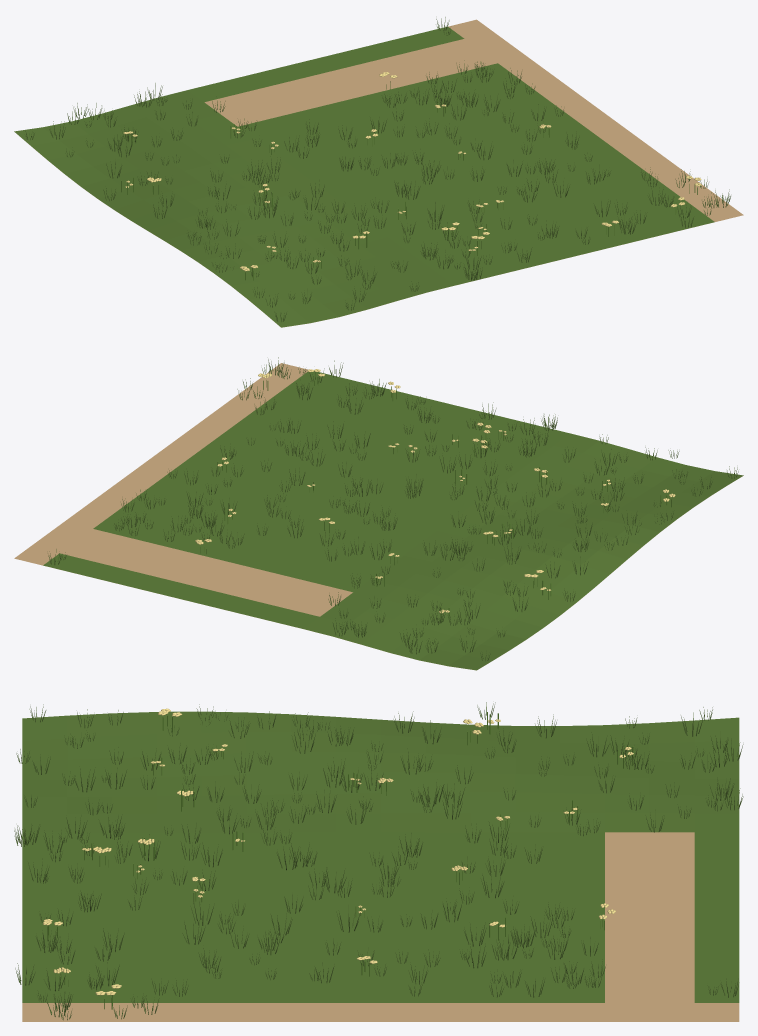
File: terrain-0-1.glb
3 views of the same model, one above another, from view 1: azimuth 30°, elevation 25°; view 2: azimuth 150°, elevation 25°; view 3: azimuth 270°, elevation 25° (orthographic). The views are drawn at different scales.
Parts seen in each view (by area): view 1: terrain-0-1__grass, terrain-0-1__sand, terrain-0-1__petal, terrain-0-1__leaf; view 2: terrain-0-1__grass, terrain-0-1__sand, terrain-0-1__petal, terrain-0-1__leaf; view 3: terrain-0-1__grass, terrain-0-1__sand, terrain-0-1__petal, terrain-0-1__leaf.
Boxes of the visible parts, x1,y1,x2,y2 form: terrain-0-1__grass: (14, 17, 730, 327); terrain-0-1__sand: (15, 19, 743, 327); terrain-0-1__petal: (123, 72, 701, 271); terrain-0-1__leaf: (121, 81, 697, 280); terrain-0-1__grass: (43, 357, 743, 670); terrain-0-1__sand: (14, 363, 740, 670); terrain-0-1__petal: (195, 369, 675, 613); terrain-0-1__leaf: (200, 377, 671, 622); terrain-0-1__grass: (14, 702, 743, 1020); terrain-0-1__sand: (22, 832, 739, 1021); terrain-0-1__petal: (43, 708, 633, 995); terrain-0-1__leaf: (47, 712, 633, 1009).
Bounding box in the file's own units: 16.26 × 0.7551 × 16.29.
